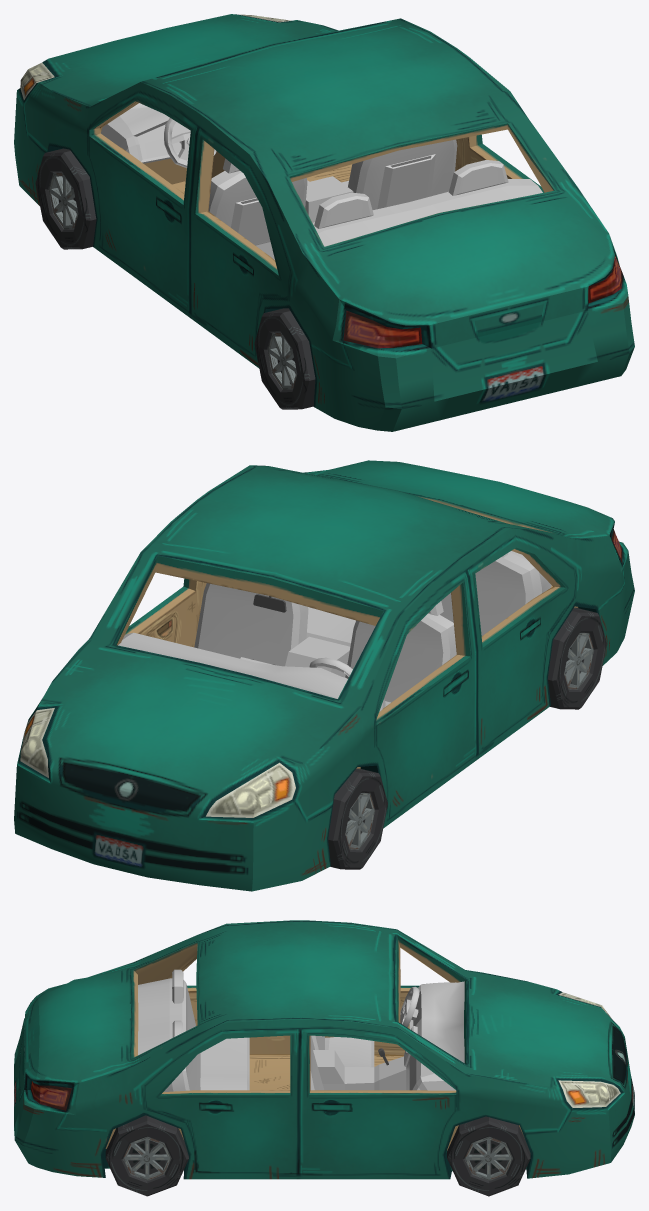
Rendered from Car_3.0.fbx.
The picture shows the model from 3 angles, top to bottom: view 1: azimuth 30°, elevation 25°; view 2: azimuth 150°, elevation 25°; view 3: azimuth 270°, elevation 25°; orthographic projection. The views are drawn at different scales.
Visible parts, largest first — view 1: Car; view 2: Car; view 3: Car.
Part boxes in pixels (bbox=[...]): Car: bbox=[14, 14, 634, 431]; Car: bbox=[14, 460, 634, 891]; Car: bbox=[14, 920, 634, 1196].
Bounding box in the file's own units: 14.45 × 10.21 × 32.9.
